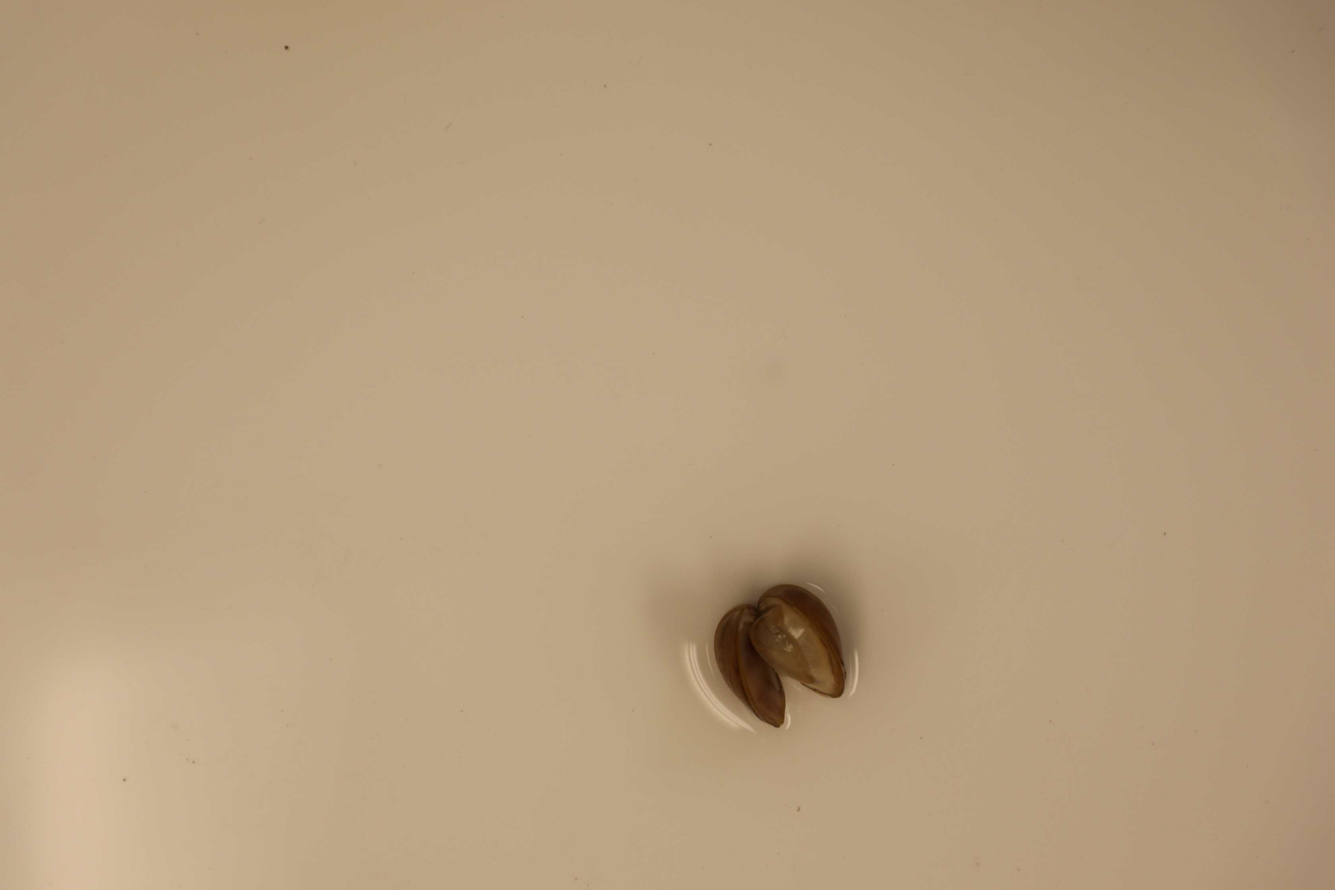Other: (710, 581, 847, 731)
